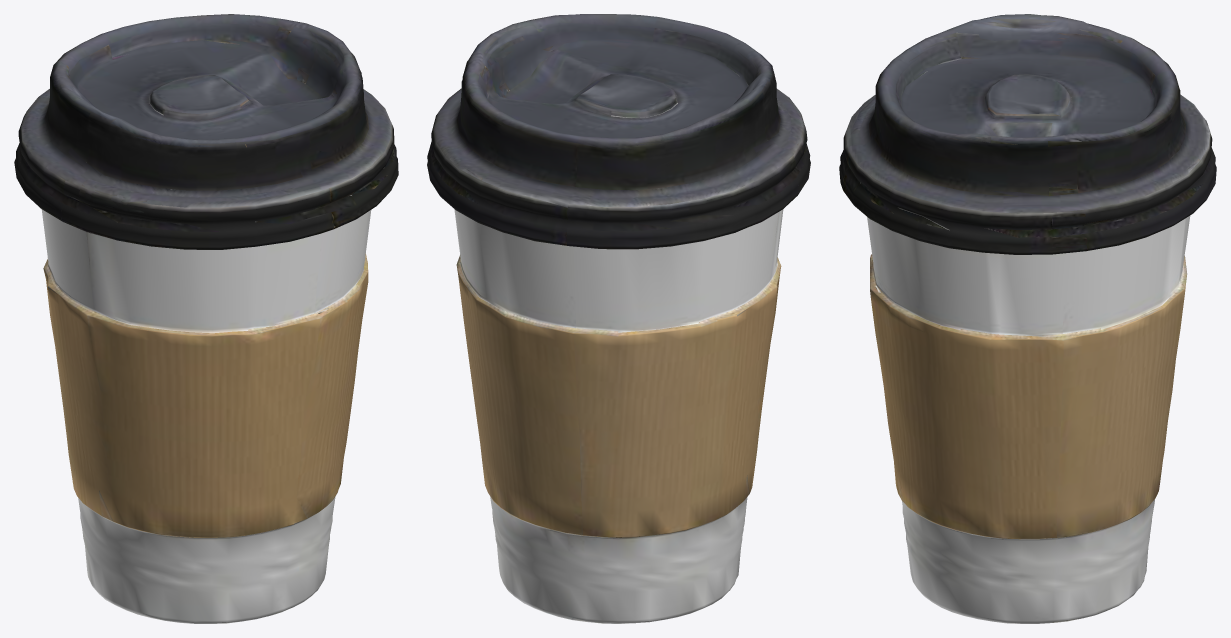
3 views of the same model, side by side, from view 1: azimuth 30°, elevation 25°; view 2: azimuth 150°, elevation 25°; view 3: azimuth 270°, elevation 25° (orthographic).
Size of the model in its own units: 1.3 by 1.91 by 1.3.
1 material, 1 textured.
